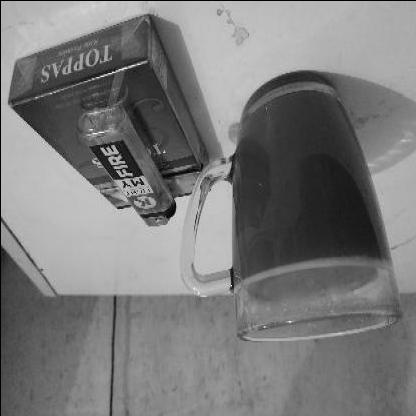objects: (6, 13, 207, 210)
